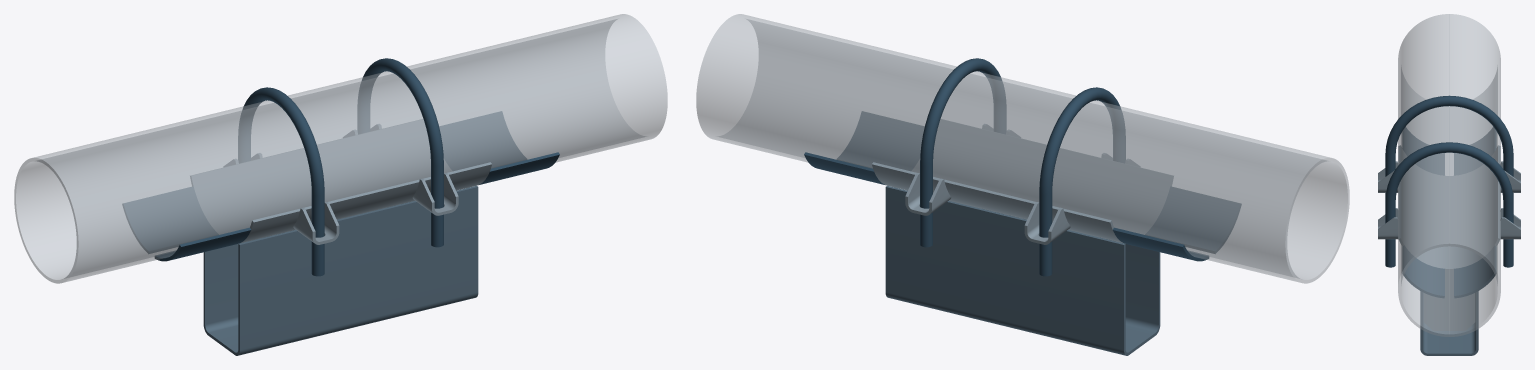
Rendered from TS-670.00.00-16-opora-dn159-H150.glb.
3 renders of one model, left to right at view 1: azimuth 30°, elevation 25°; view 2: azimuth 150°, elevation 25°; view 3: azimuth 270°, elevation 25°, orthographic. The views are drawn at different scales.
Parts seen in each view (by area): view 1: truba, skoba_1, podushka_0, upor_-1_1, homut_-1, homut_1, upor_1_1, upor_-1_-1, ushko_7, upor_1_-1, ushko_5; view 2: truba, skoba_1, podushka_0, upor_-1_-1, homut_-1, homut_1, upor_1_-1, upor_-1_1, ushko_6, upor_1_1, ushko_4; view 3: truba, podushka_0, homut_1, homut_-1, rebro_3, skoba_1, upor_1_1, upor_1_-1, upor_-1_1, upor_-1_-1, ushko_4, ushko_5 (+2 smaller).
Boxes of the visible parts, x1=… form: truba: x1=14, y1=14, x2=667, y2=283; skoba_1: x1=203, y1=185, x2=478, y2=355; podushka_0: x1=190, y1=119, x2=491, y2=243; upor_-1_1: x1=122, y1=187, x2=218, y2=253; homut_-1: x1=238, y1=87, x2=324, y2=276; homut_1: x1=357, y1=58, x2=443, y2=247; upor_1_1: x1=439, y1=111, x2=526, y2=170; upor_-1_-1: x1=154, y1=227, x2=250, y2=261; ushko_7: x1=293, y1=202, x2=339, y2=244; upor_1_-1: x1=479, y1=152, x2=559, y2=184; ushko_5: x1=412, y1=173, x2=458, y2=215; truba: x1=696, y1=14, x2=1349, y2=283; skoba_1: x1=885, y1=185, x2=1160, y2=355; podushka_0: x1=872, y1=119, x2=1173, y2=243; upor_-1_-1: x1=1145, y1=187, x2=1241, y2=253; homut_-1: x1=1039, y1=87, x2=1125, y2=276; homut_1: x1=920, y1=58, x2=1006, y2=247; upor_1_-1: x1=837, y1=111, x2=924, y2=170; upor_-1_1: x1=1113, y1=227, x2=1209, y2=261; ushko_6: x1=1024, y1=202, x2=1070, y2=244; upor_1_1: x1=804, y1=152, x2=884, y2=184; ushko_4: x1=905, y1=173, x2=951, y2=215; truba: x1=1398, y1=14, x2=1500, y2=336; podushka_0: x1=1398, y1=145, x2=1500, y2=271; homut_1: x1=1385, y1=142, x2=1513, y2=267; homut_-1: x1=1385, y1=95, x2=1513, y2=199; rebro_3: x1=1423, y1=271, x2=1475, y2=330; skoba_1: x1=1420, y1=291, x2=1478, y2=355; upor_1_1: x1=1454, y1=246, x2=1496, y2=298; upor_1_-1: x1=1402, y1=246, x2=1444, y2=298; upor_-1_1: x1=1454, y1=127, x2=1496, y2=175; upor_-1_-1: x1=1402, y1=127, x2=1444, y2=175; ushko_4: x1=1500, y1=208, x2=1520, y2=239; ushko_5: x1=1378, y1=208, x2=1398, y2=239.
Size of the model in its own units: 840 by 324 by 221.
